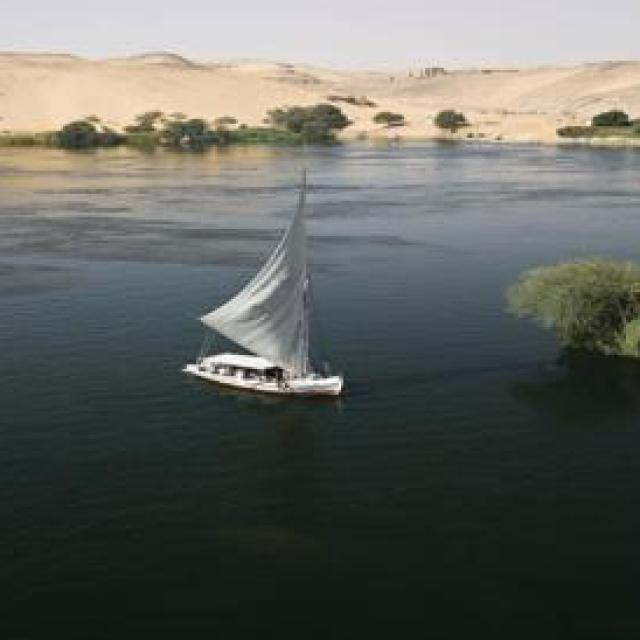sailboat: (188, 157, 347, 397)
